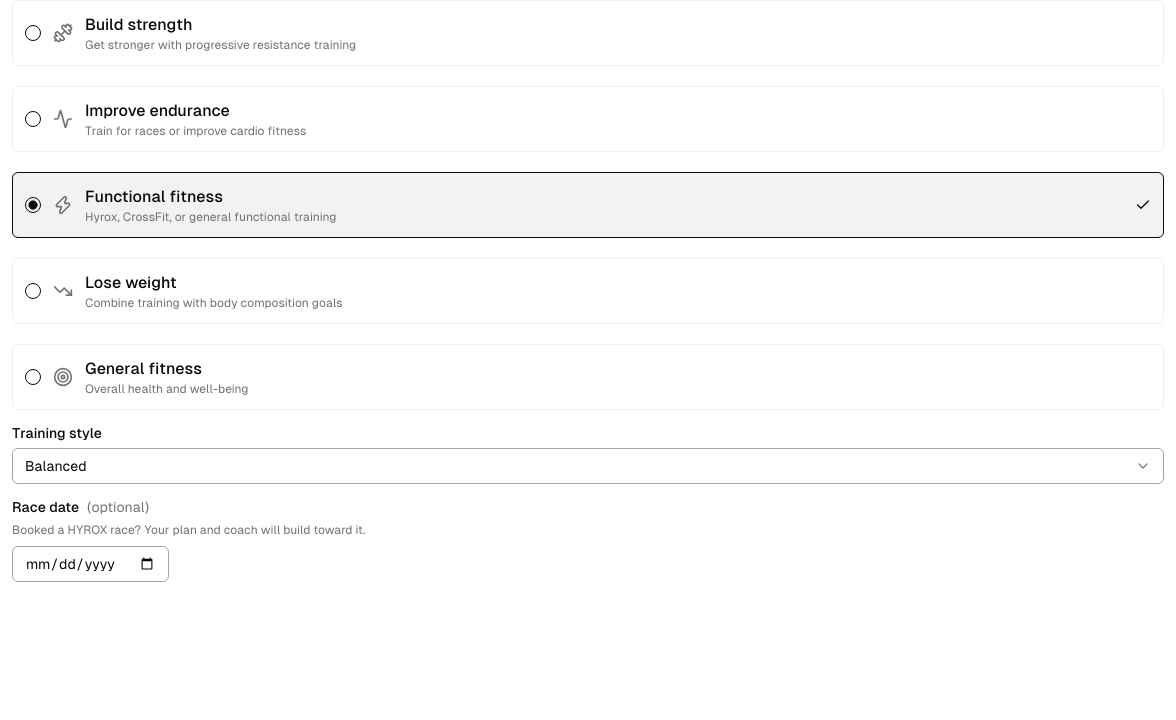
Test: GoalStep race date › clears the error once the date is corrected
This screenshot has width=1176, height=720.
In the date field labelled "Race date (optional)": (90, 564) x1=12 y1=546 x2=169 y2=582, type "2025-11-15"
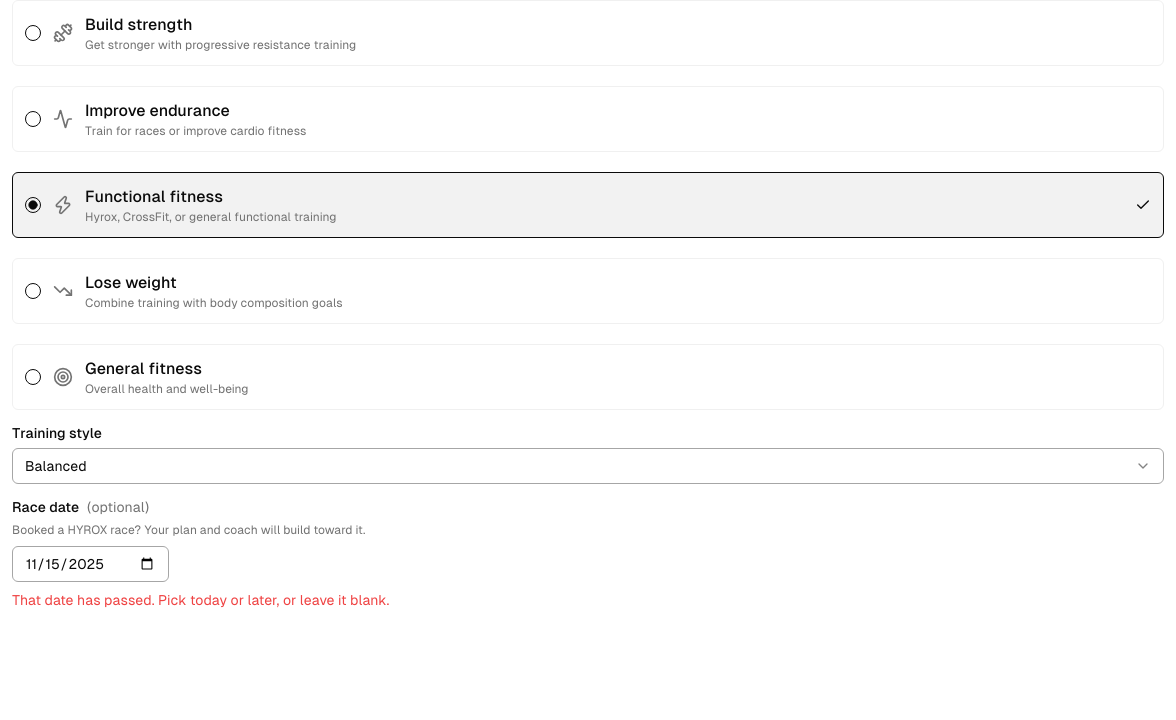
In the date field labelled "Race date (optional)": (90, 564) x1=12 y1=546 x2=169 y2=582, type "2026-11-15"
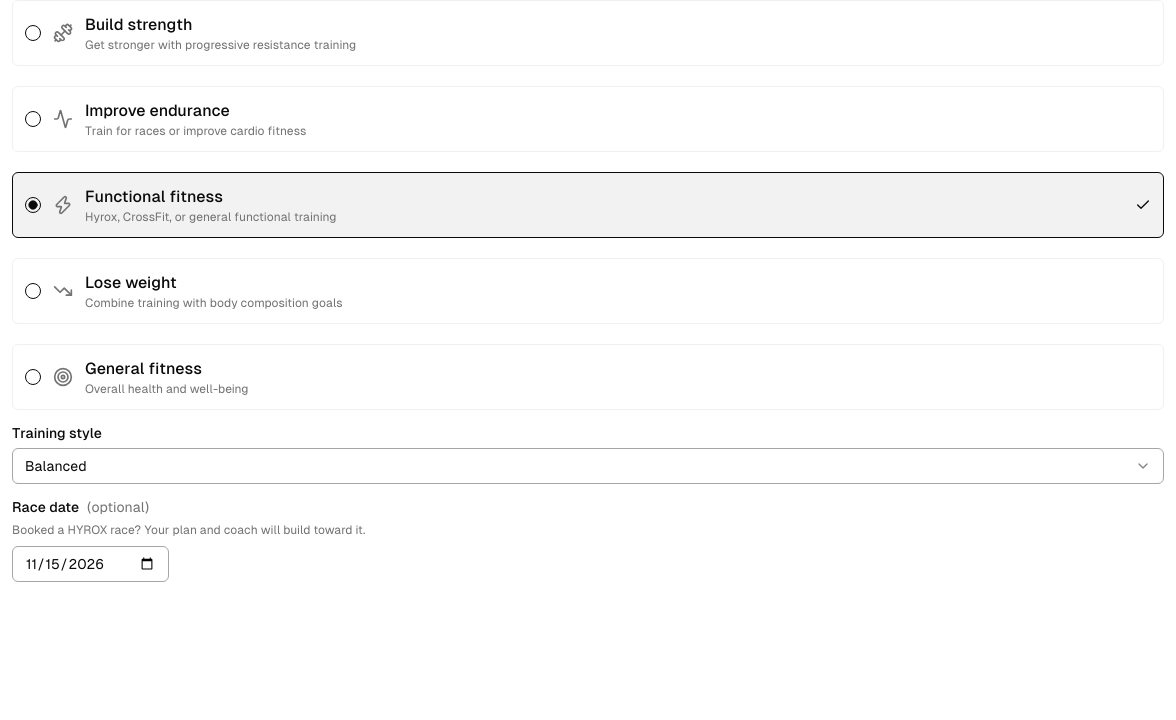
Check: the message "That date has passed. Pick today or later, or leave it blank." is gone
